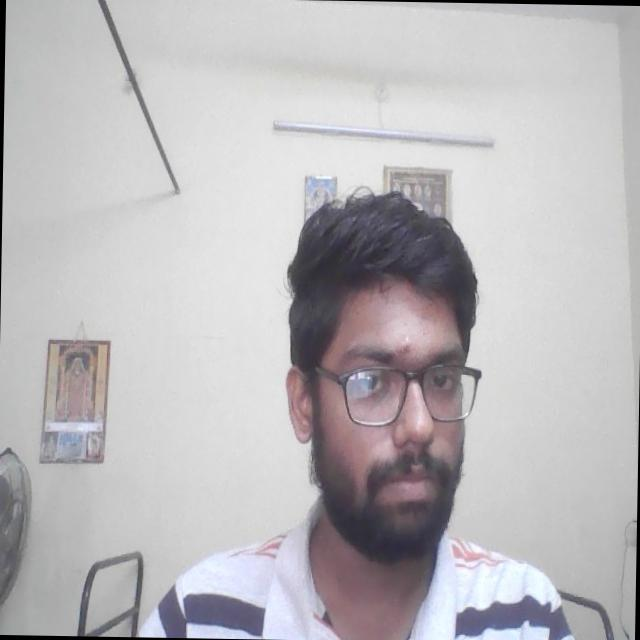Focused: (332, 306, 490, 526)
